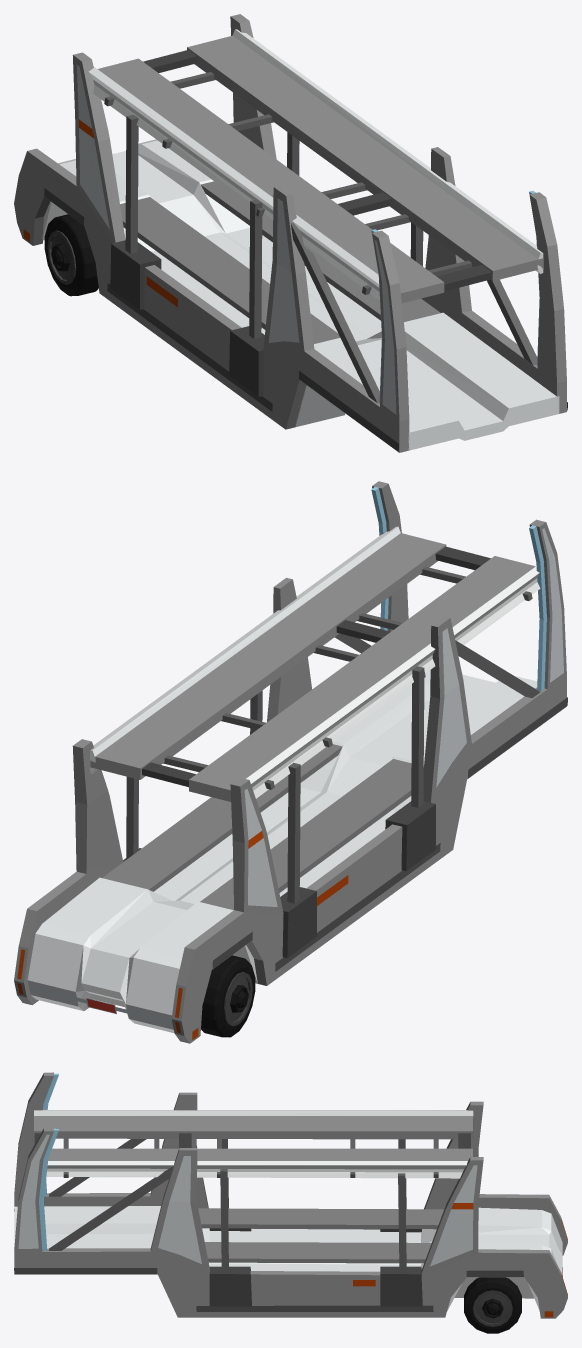
Rendered from Trailer_2_lvl3.fbx.
3 renders of one model, top to bottom at view 1: azimuth 30°, elevation 25°; view 2: azimuth 150°, elevation 25°; view 3: azimuth 270°, elevation 25°, orthographic. The views are drawn at different scales.
Parts seen in each view (by area): view 1: Trailer_0012, R3_081; view 2: Trailer_0012, R3_081; view 3: Trailer_0012, R3_080.
Boxes of the visible parts, x1,y1,x2,y2 form: Trailer_0012: (14,14,567,452); R3_081: (44,214,98,296); Trailer_0012: (14,481,567,1043); R3_081: (201,955,255,1037); Trailer_0012: (14,1072,567,1318); R3_080: (464,1277,521,1333).
Bounding box in the file's own units: 3202 × 4694 × 11558.
